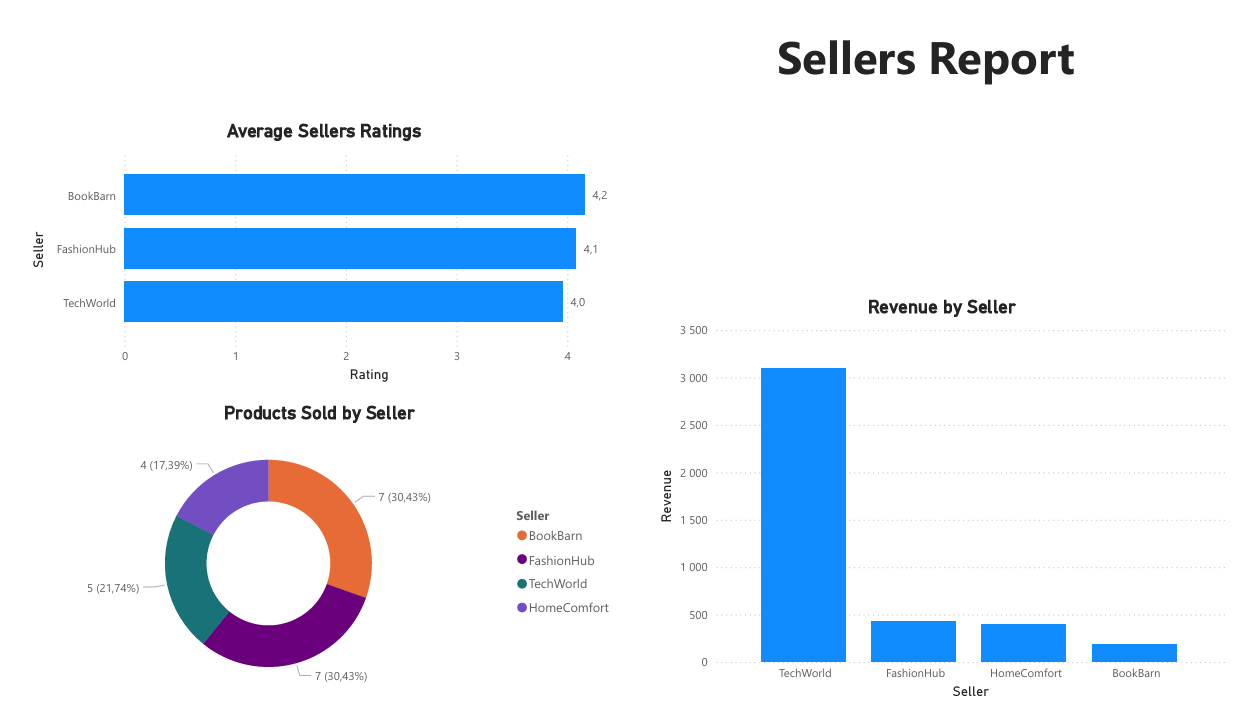

The dashboard page shown, as its layout file describes it:
{"tool":"powerbi","page":{"name":"Page 2","canvas":[1280,720],"ordinal":1},"visuals":[{"type":"clusteredBarChart","title":"Average Sellers Ratings","fields":{"Category":["SELLERS.Name"],"Y":["SELLERS.ProductsRating"]},"box":[11.4,105.7,628.6,280],"z":0},{"type":"donutChart","title":"Products Sold by Seller","fields":{"Category":["SELLERS.Name"],"Y":["ORDER_PRODUCTS.Quantity"]},"box":[0,402.9,640,317.1],"z":1},{"type":"clusteredColumnChart","fields":{"Category":["SELLERS.Name"],"Y":["ORDERS.TotalRevenue"]},"box":[672.9,291.4,607.1,428.6],"z":2},{"type":"textbox","box":[672.9,0,574.3,88.6],"z":3}]}

Visuals, with their boxes in screenshot pixels (x1, y1, x2, y2), scaled from the page's 1280x720 canvas onto the 1251x722 screenshot:
"Average Sellers Ratings" clusteredBarChart: <region>11, 106, 626, 387</region>
"Products Sold by Seller" donutChart: <region>0, 404, 626, 721</region>
clusteredColumnChart - SELLERS.Name x ORDERS.TotalRevenue: <region>658, 292, 1250, 721</region>
textbox: <region>658, 0, 1219, 89</region>
